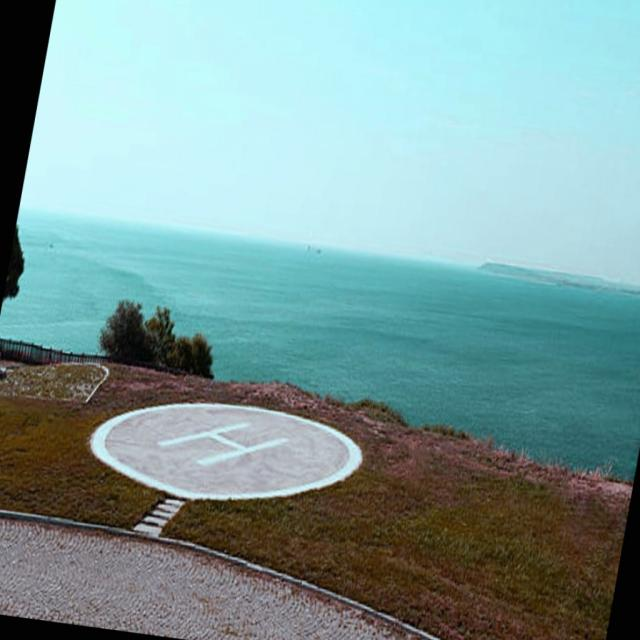helipad: (83, 396, 366, 504)
